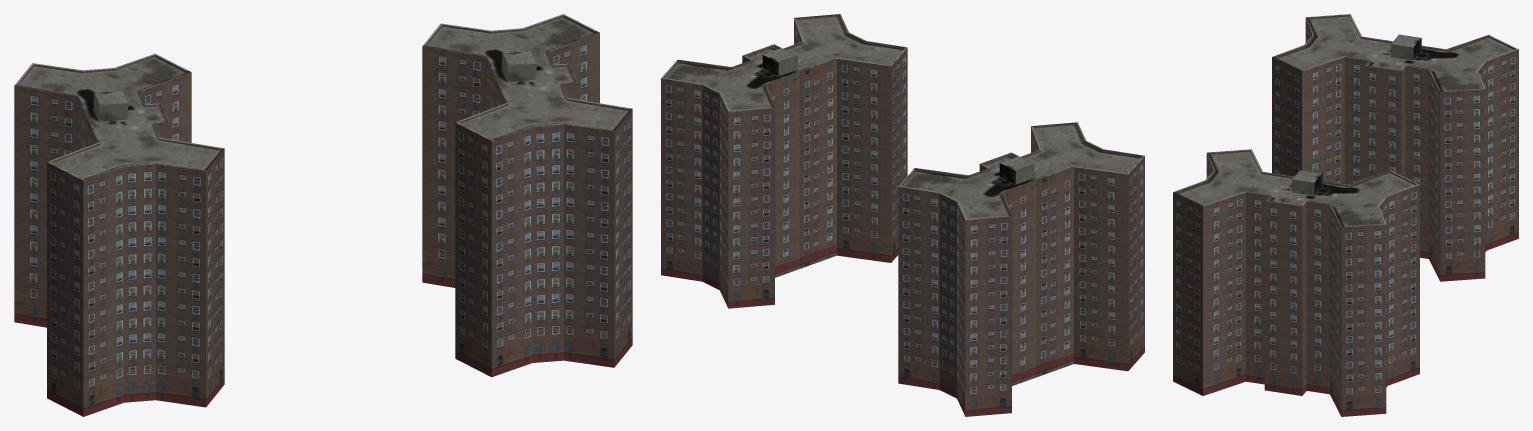
File: bigapts.dae
3 views of the same model, side by side, from view 1: azimuth 30°, elevation 25°; view 2: azimuth 150°, elevation 25°; view 3: azimuth 270°, elevation 25° (orthographic). The views are drawn at different scales.
Parts seen in each view (by area): view 1: Component (×10); view 2: Component (×10); view 3: Component (×10).
Part boxes in pixels (x1,y1,x2,y2): Component (×10): (14, 14, 632, 416); Component (×10): (661, 14, 1144, 416); Component (×10): (1173, 14, 1518, 416).
Size of the model in its own units: 4111 by 2810 by 1803.
2 materials, 2 textured.
